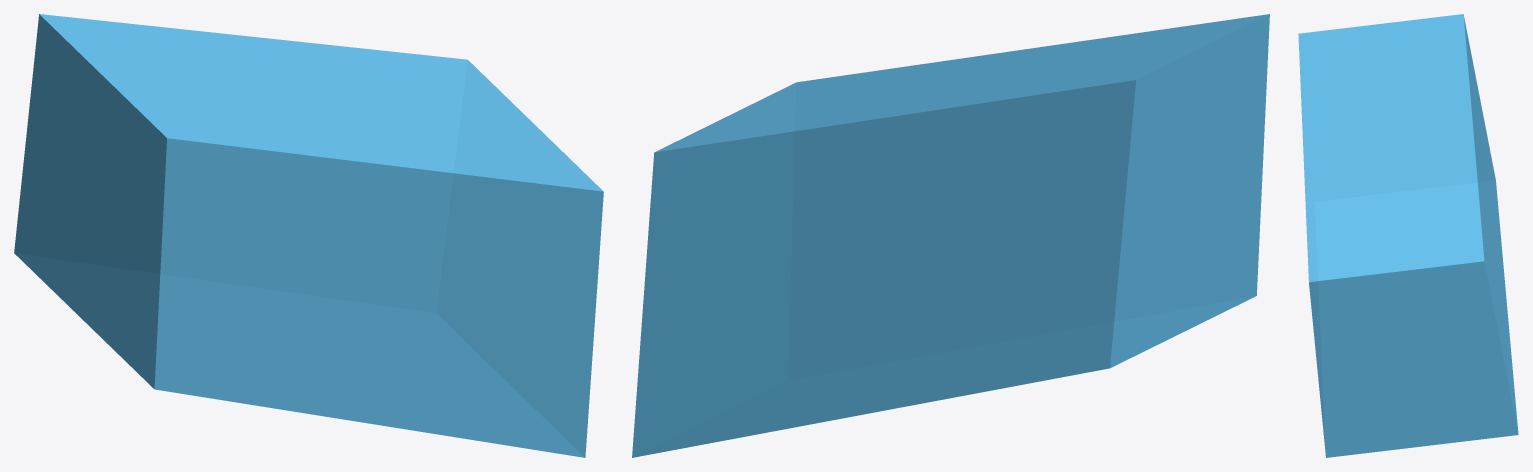
Rendered from Event_420094457_HErechit_64.fbx.
3 views of the same model, side by side, from view 1: azimuth 30°, elevation 25°; view 2: azimuth 150°, elevation 25°; view 3: azimuth 270°, elevation 25° (orthographic). The views are drawn at different scales.
Visible parts, largest first — view 1: Model; view 2: Model; view 3: Model.
Part boxes in pixels (box(x1,y1,x2,y2)): Model: box(14, 14, 603, 457); Model: box(632, 14, 1269, 457); Model: box(1298, 14, 1518, 457).
Size of the model in its own units: 0.6967 by 0.7082 by 0.4626.
